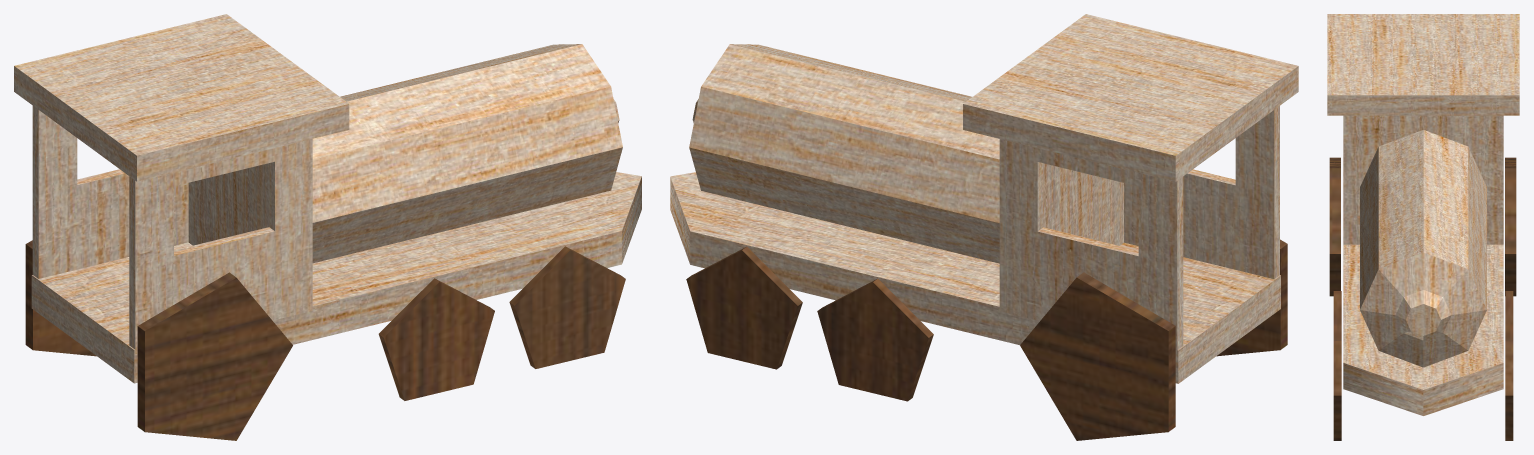
Rendered from tog.fbx.
The picture shows the model from 3 angles, left to right: view 1: azimuth 30°, elevation 25°; view 2: azimuth 150°, elevation 25°; view 3: azimuth 270°, elevation 25°; orthographic projection. The views are drawn at different scales.
Visible parts, largest first — view 1: pCylinder8; view 2: pCylinder8; view 3: pCylinder8.
Boxes of the visible parts, x1=… form: pCylinder8: x1=14, y1=14, x2=641, y2=440; pCylinder8: x1=670, y1=14, x2=1298, y2=440; pCylinder8: x1=1327, y1=14, x2=1519, y2=440.
Bounding box in the file's own units: 1.07 × 0.5661 × 0.4.
